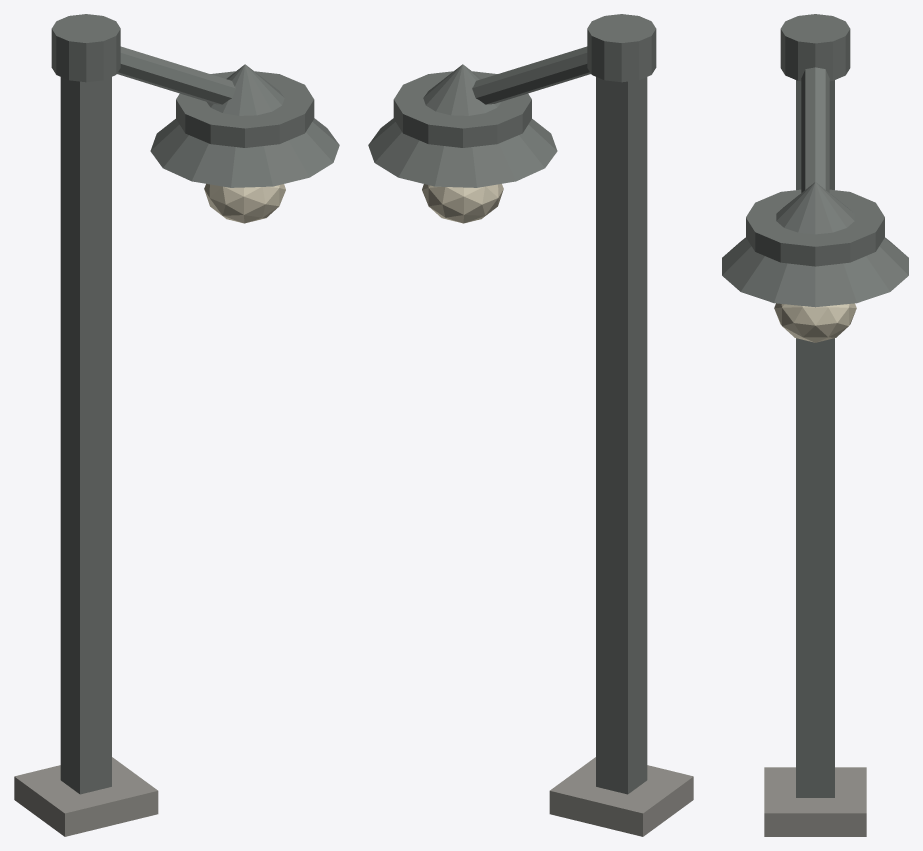
Rendered from strassenlampe_guss.glb.
3 renders of one model, left to right at view 1: azimuth 30°, elevation 25°; view 2: azimuth 150°, elevation 25°; view 3: azimuth 270°, elevation 25°, orthographic.
Parts seen in each view (by area): view 1: part_000, part_004, part_006, part_003, part_001, part_002, part_005; view 2: part_000, part_004, part_006, part_003, part_001, part_002, part_005; view 3: part_000, part_004, part_003, part_006, part_001, part_002, part_005.
Boxes of the visible parts, x1,y1,x2,y2 form: part_000: (60,77,111,794); part_004: (150,64,339,187); part_006: (14,757,158,836); part_003: (176,71,314,147); part_001: (51,14,120,82); part_002: (117,46,235,104); part_005: (204,184,285,223); part_000: (596,77,647,794); part_004: (368,64,557,187); part_006: (549,757,693,836); part_003: (393,71,531,147); part_001: (587,14,656,82); part_002: (472,46,590,104); part_005: (422,184,503,223); part_000: (796,80,834,797); part_004: (722,182,908,307); part_003: (746,189,884,266); part_006: (764,767,866,836); part_001: (780,14,850,81); part_002: (801,67,829,192); part_005: (774,303,856,342).
Bounding box in the file's own units: 1.54 × 4.01 × 0.8579.
